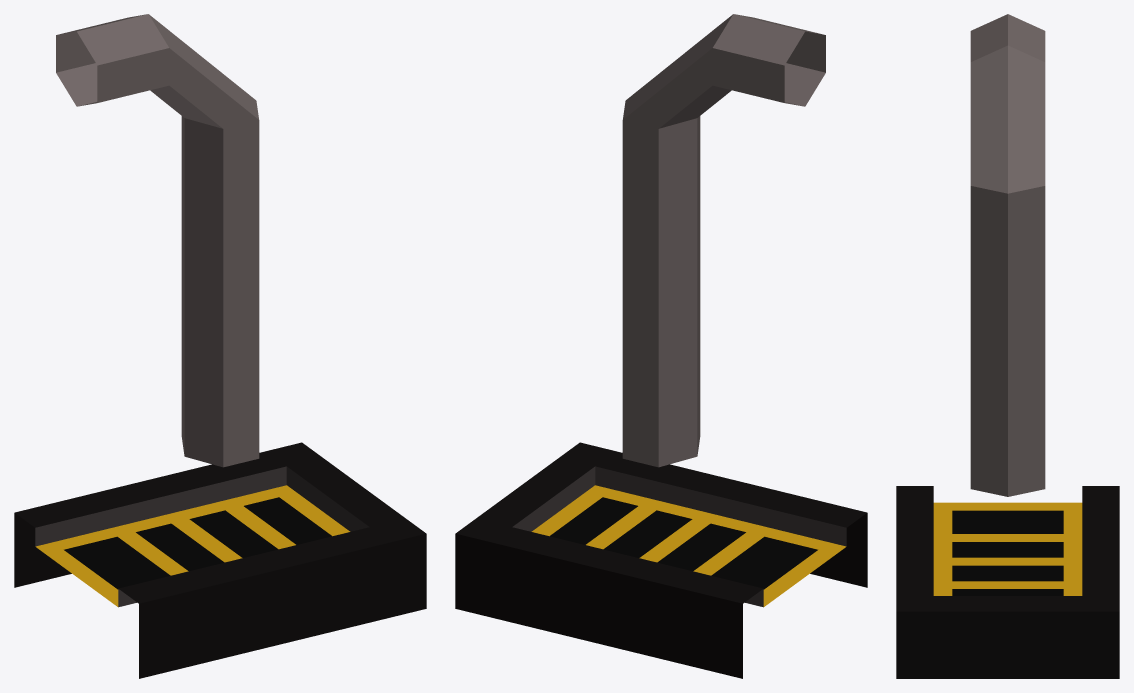
File: obj_sinclair_mansion_drain_0.obj
3 views of the same model, side by side, from view 1: azimuth 30°, elevation 25°; view 2: azimuth 150°, elevation 25°; view 3: azimuth 270°, elevation 25° (orthographic). The views are drawn at different scales.
Size of the model in its own units: 0.5 by 1 by 0.375.
